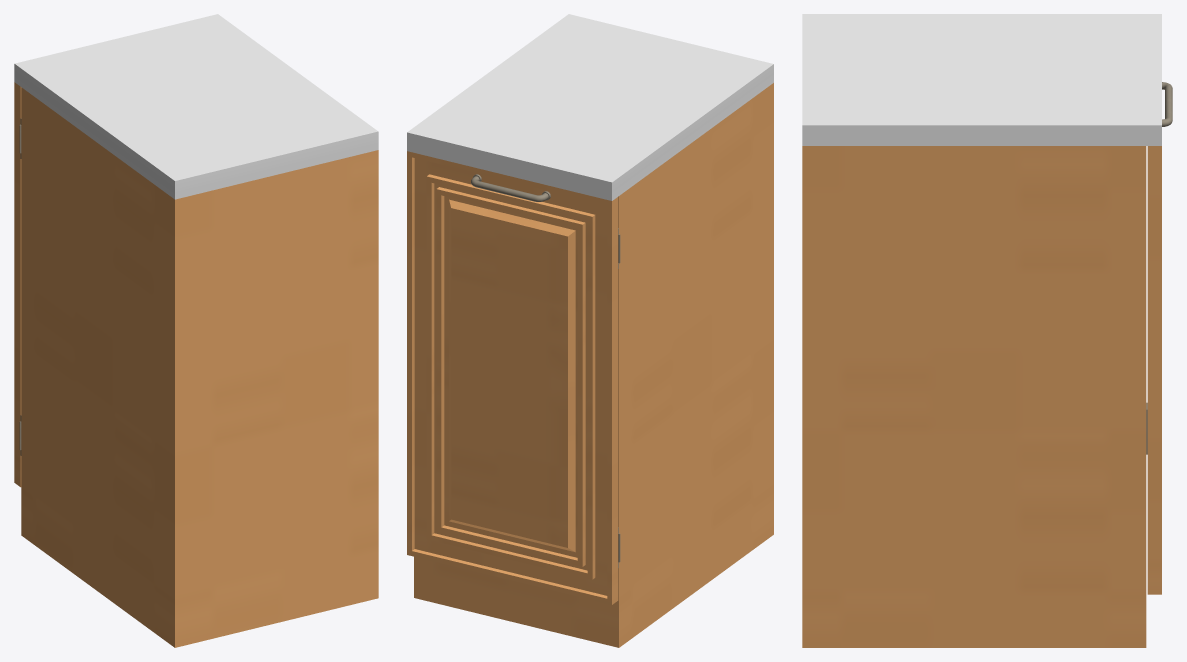
The model's file is CabinetB01.glb.
3 views of the same model, side by side, from view 1: azimuth 30°, elevation 25°; view 2: azimuth 150°, elevation 25°; view 3: azimuth 270°, elevation 25° (orthographic). The views are drawn at different scales.
Parts seen in each view (by area): view 1: CabinetB01_model, CabinetB01Door; view 2: CabinetB01_model, CabinetB01Door; view 3: CabinetB01_model, CabinetB01Door.
Part boxes in pixels (x1,y1,x2,y2): CabinetB01_model: (14,14,378,647); CabinetB01Door: (14,82,21,487); CabinetB01_model: (407,14,773,647); CabinetB01Door: (407,151,620,604); CabinetB01_model: (802,14,1161,647); CabinetB01Door: (1147,82,1172,594).
Size of the model in its own units: 0.9256 by 2.02 by 1.29.
Materials: 1 (1 with a texture image).
